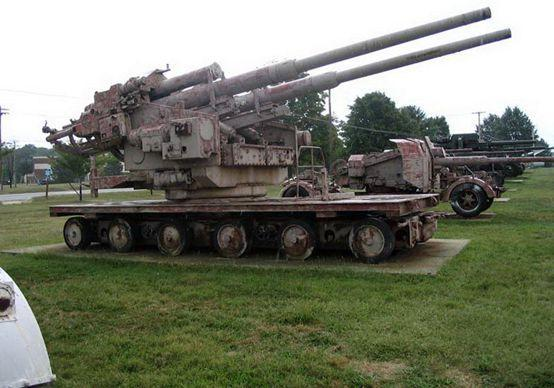MIL_SPG: (47, 9, 509, 261)
